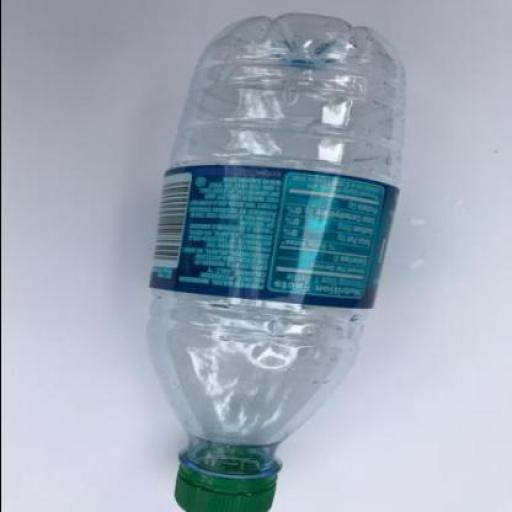plastic: (146, 14, 402, 512), (146, 166, 398, 310), (172, 444, 280, 511)
